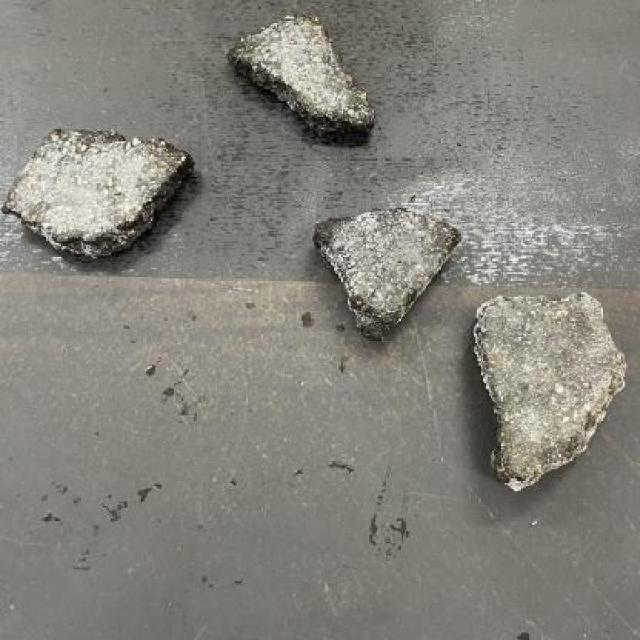Road Debris: (482, 304, 604, 456), (15, 136, 160, 232), (328, 214, 443, 330), (302, 66, 369, 122)
